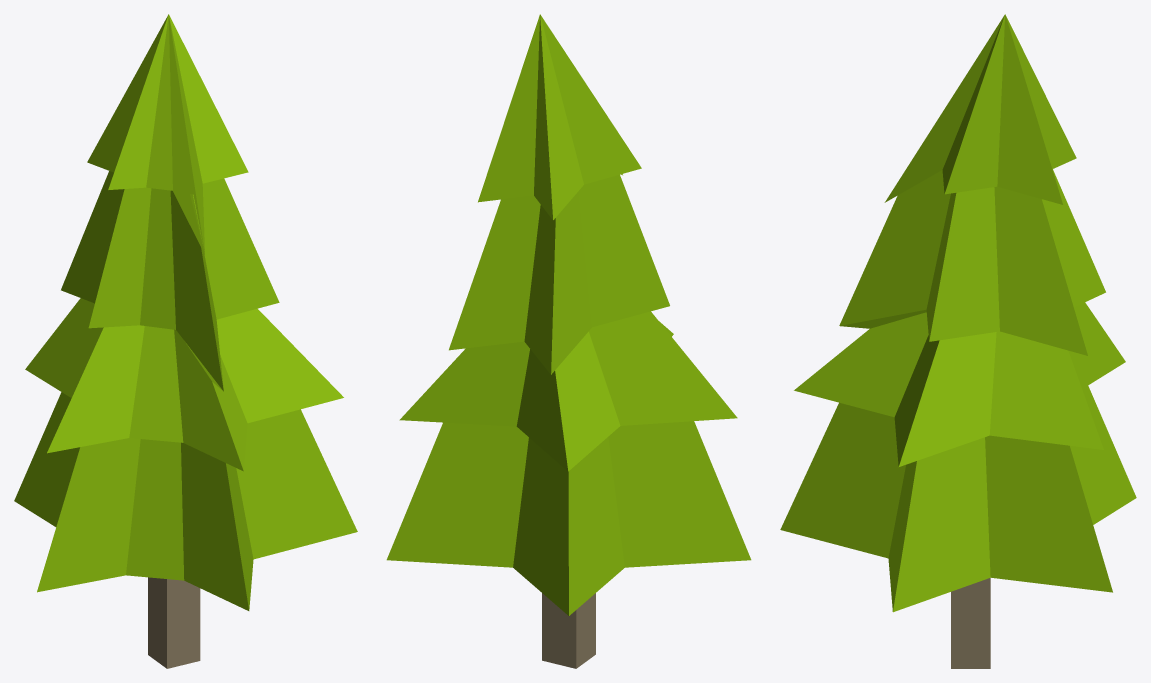
File: tree_pine_star_skewed_6.fbx
3 views of the same model, side by side, from view 1: azimuth 30°, elevation 25°; view 2: azimuth 150°, elevation 25°; view 3: azimuth 270°, elevation 25° (orthographic). The views are drawn at different scales.
Visible parts, largest first — view 1: tree_pine_star_skewed_6; view 2: tree_pine_star_skewed_6; view 3: tree_pine_star_skewed_6.
Part boxes in pixels (x1=…): tree_pine_star_skewed_6: x1=14, y1=14, x2=357, y2=668; tree_pine_star_skewed_6: x1=386, y1=14, x2=751, y2=668; tree_pine_star_skewed_6: x1=780, y1=14, x2=1136, y2=668.
Size of the model in its own units: 113 by 224 by 111.
